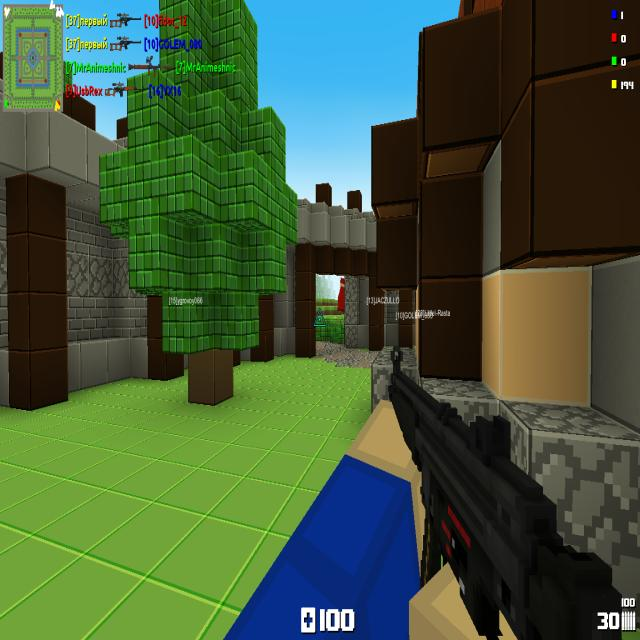enemy: (337, 277, 346, 312)
